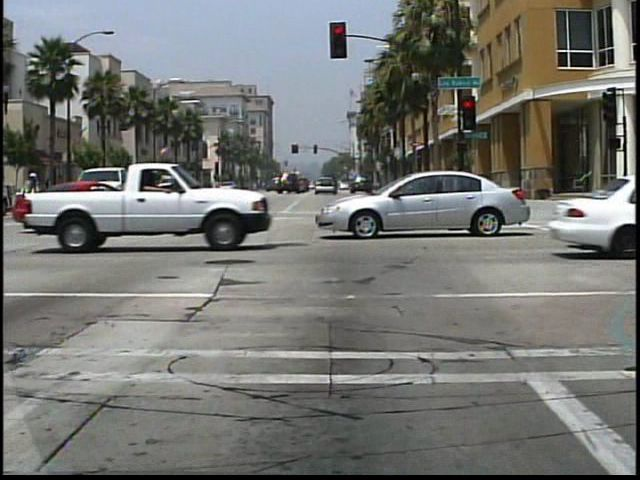person: (20, 168, 47, 221)
